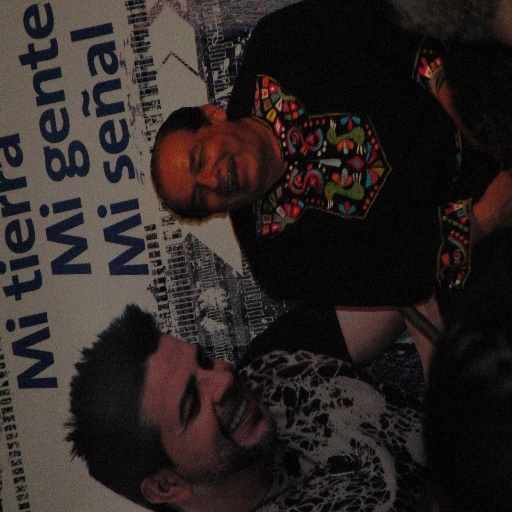hand: (437, 82, 503, 150), (486, 164, 511, 225)
